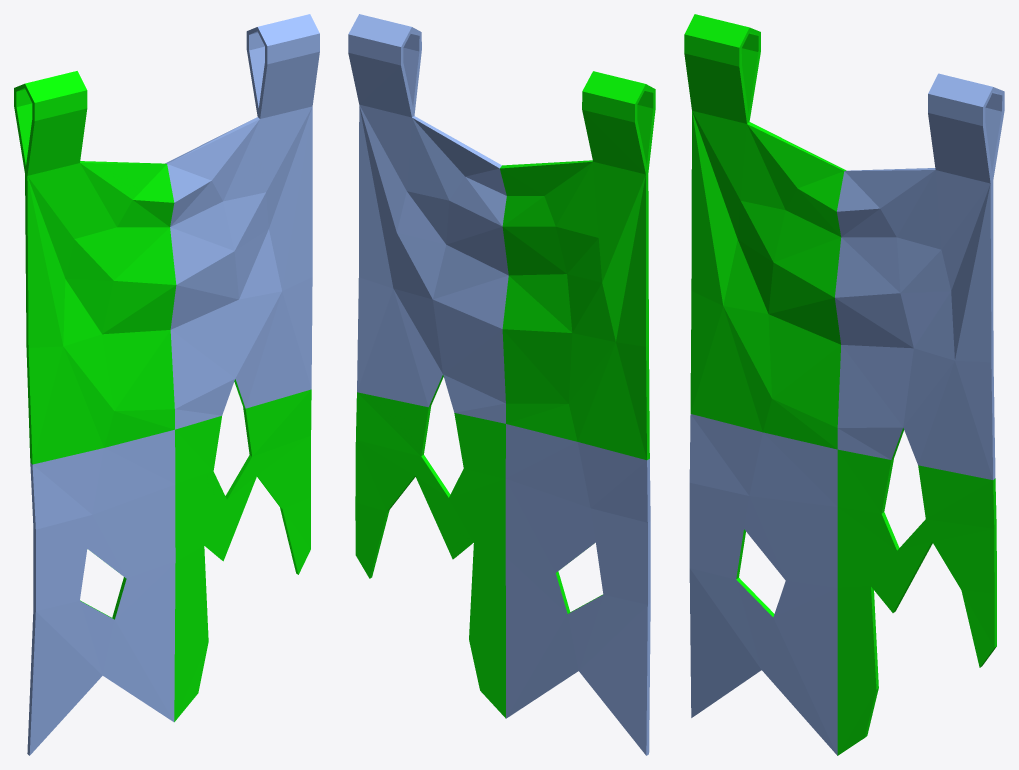
Rendered from SM_Flag_Banner_Small_A_Broken_Fantasy.fbx.
3 renders of one model, left to right at view 1: azimuth 30°, elevation 25°; view 2: azimuth 150°, elevation 25°; view 3: azimuth 330°, elevation 25°, orthographic. The views are drawn at different scales.
Visible parts, largest first — view 1: flag-banner-small-a-broken-fantasy; view 2: flag-banner-small-a-broken-fantasy; view 3: flag-banner-small-a-broken-fantasy.
Part boxes in pixels (box(x1,y1,x2,y2)): flag-banner-small-a-broken-fantasy: box(14, 14, 319, 755); flag-banner-small-a-broken-fantasy: box(348, 14, 655, 755); flag-banner-small-a-broken-fantasy: box(684, 14, 1004, 755).
Bounding box in the file's own units: 0.66 × 1.48 × 0.0831.
